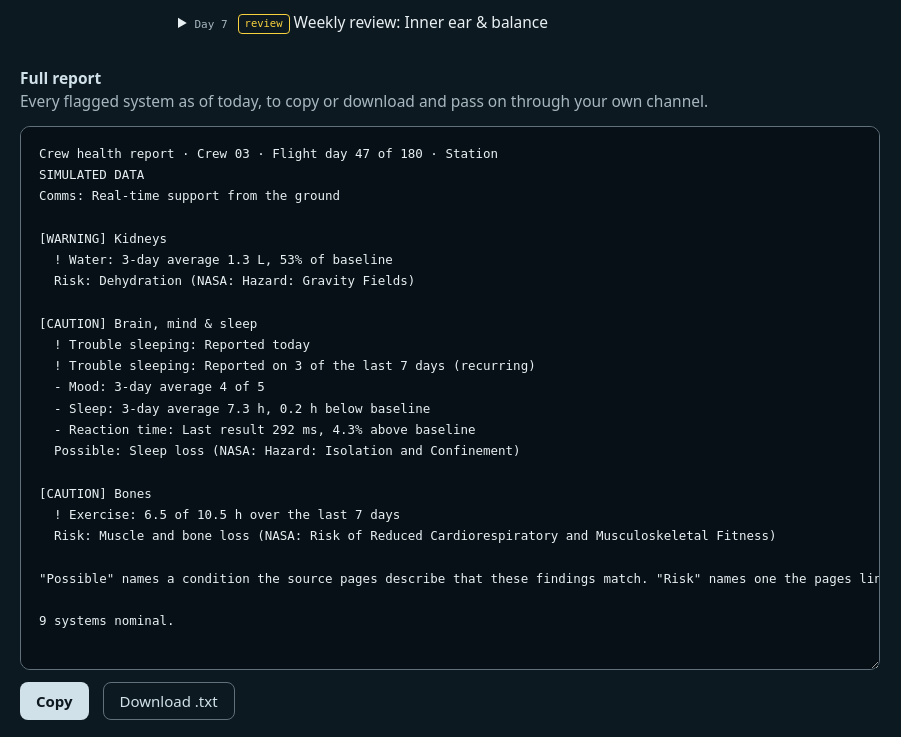
Test case: without a clipboard the text is selected instead
(page scrolled)
Click the button "Copy" at (54, 700), box [20, 682, 89, 720]
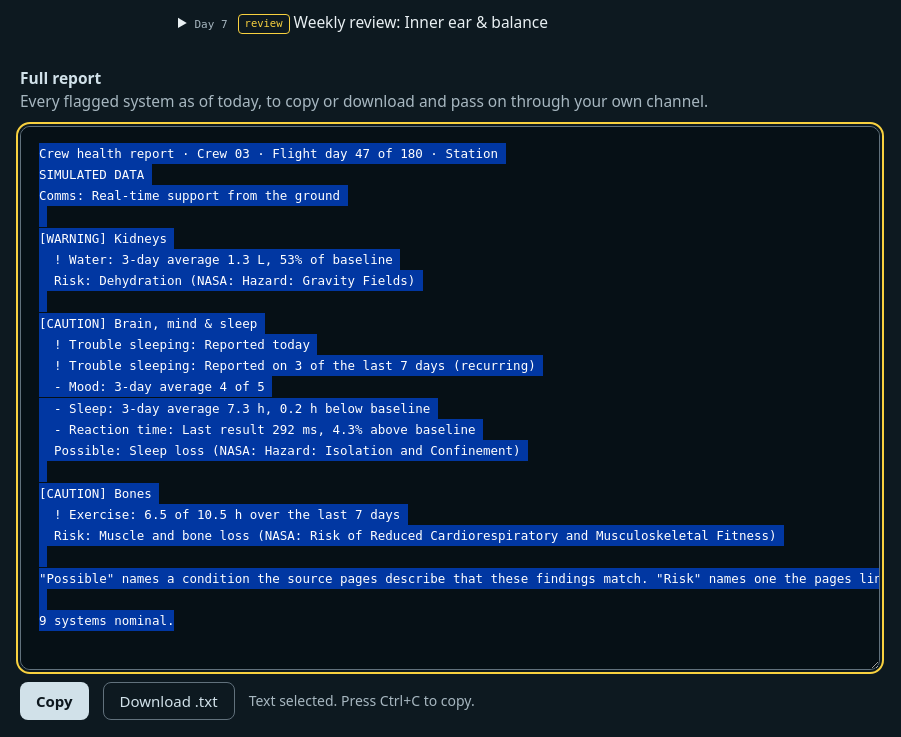
Expected: the text "Text selected. Press Ctrl+C to copy." is shown, [249, 690, 475, 711]
